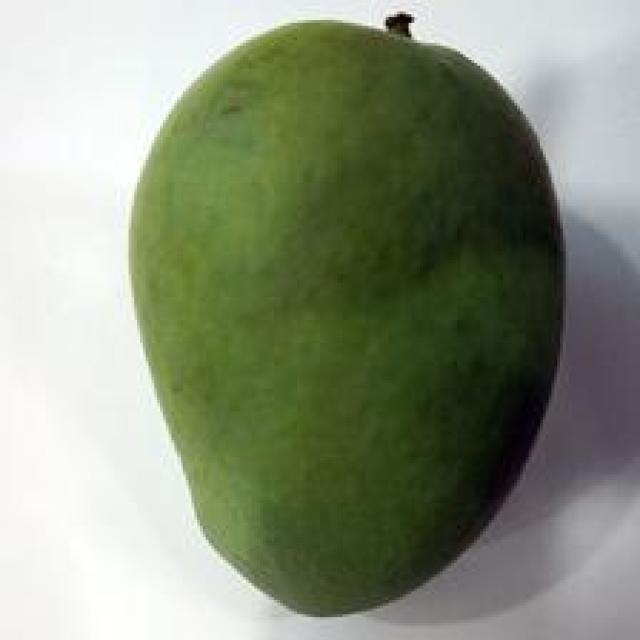Good_Mango: (126, 14, 569, 620)
